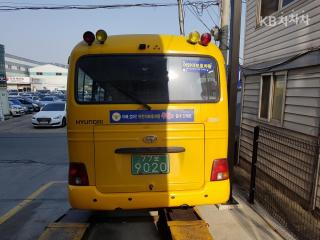0: (158, 162, 167, 172), (143, 162, 150, 173)
2: (151, 163, 159, 173)
7: (140, 155, 146, 162), (147, 155, 153, 162)
9: (134, 162, 142, 174)
plate: (126, 149, 173, 179)
보: (153, 155, 160, 162)
